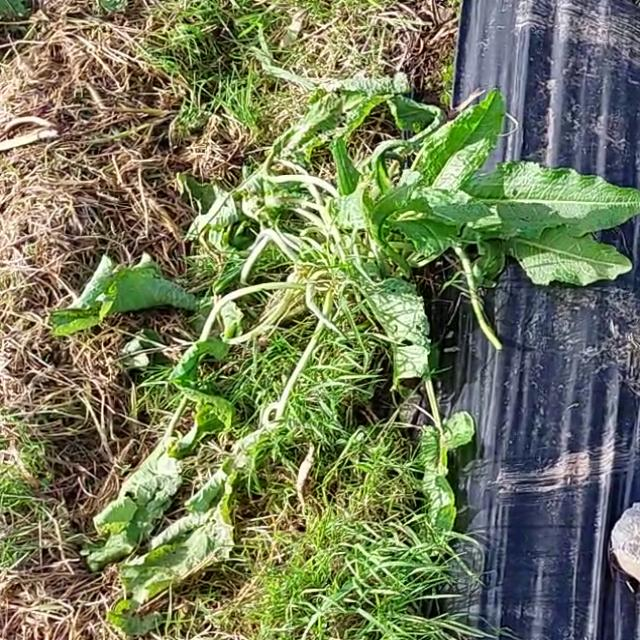organic waste: (67, 105, 606, 611)
